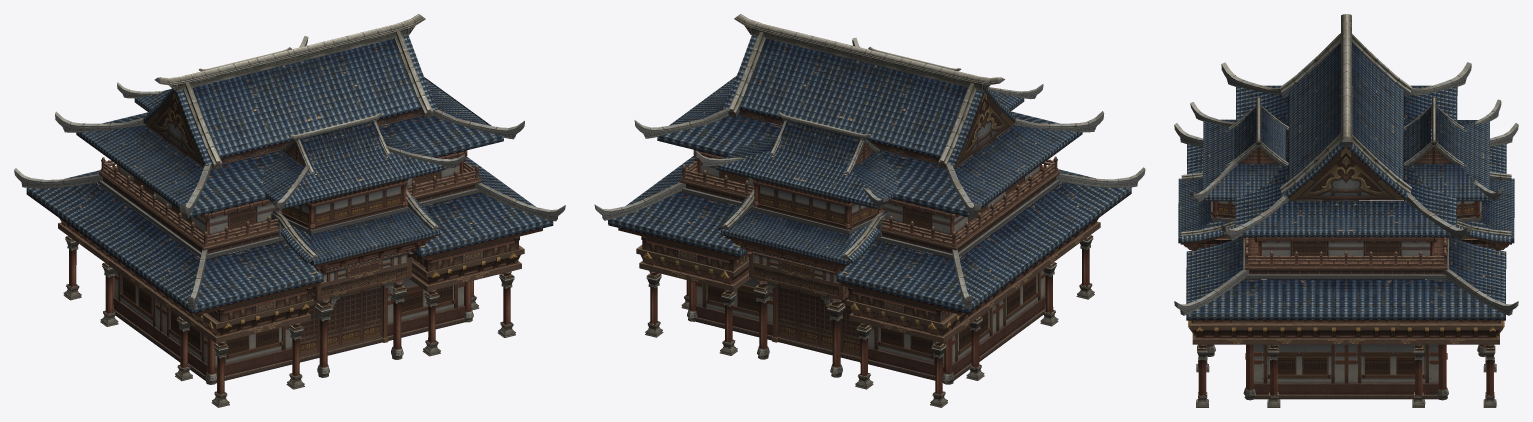
The model's file is Item_3002_jianzhu_01.FBX.
The picture shows the model from 3 angles, left to right: view 1: azimuth 30°, elevation 25°; view 2: azimuth 150°, elevation 25°; view 3: azimuth 270°, elevation 25°; orthographic projection. The views are drawn at different scales.
Parts seen in each view (by area): view 1: Item_3002_jianzhu_01; view 2: Item_3002_jianzhu_01; view 3: Item_3002_jianzhu_01.
Part boxes in pixels (left/top/right/bottom): Item_3002_jianzhu_01: left=14, top=14, right=565, bottom=407; Item_3002_jianzhu_01: left=594, top=14, right=1145, bottom=407; Item_3002_jianzhu_01: left=1174, top=14, right=1518, bottom=407.
Bounding box in the file's own units: 1046 × 714 × 848.
